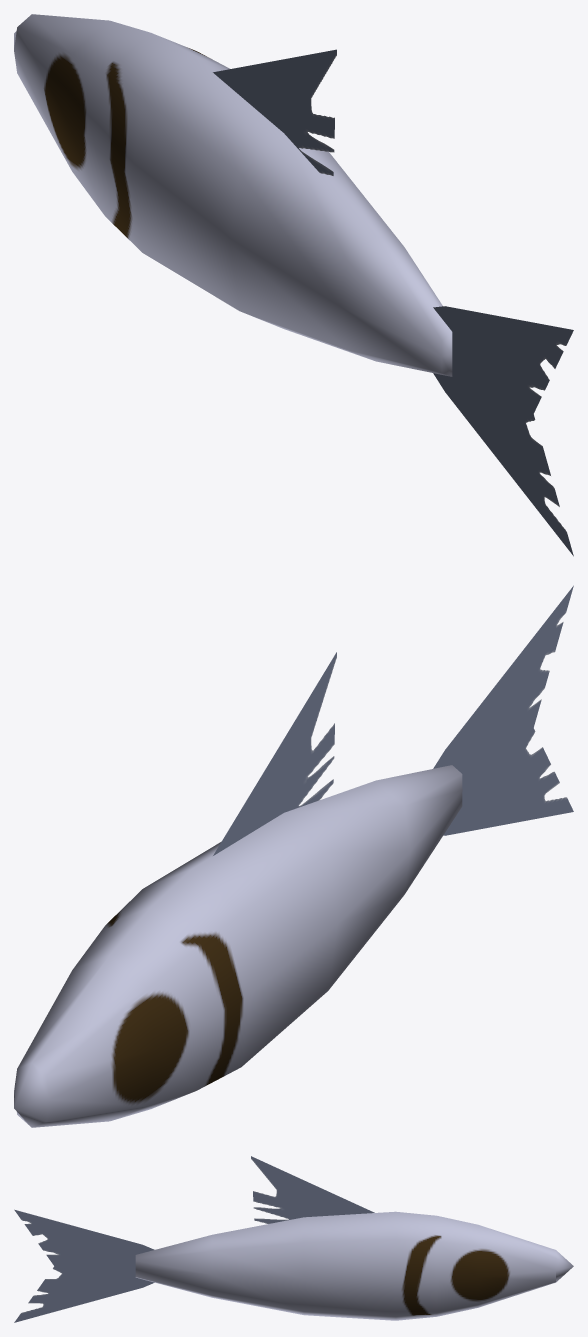
The model's file is Sardine.fbx.
3 renders of one model, top to bottom at view 1: azimuth 30°, elevation 25°; view 2: azimuth 150°, elevation 25°; view 3: azimuth 270°, elevation 25°, orthographic. The views are drawn at different scales.
Parts seen in each view (by area): view 1: sardientje; view 2: sardientje; view 3: sardientje.
Part boxes in pixels (box(x1,y1,x2,y2)): sardientje: box(14, 14, 573, 556); sardientje: box(14, 585, 573, 1127); sardientje: box(14, 1156, 573, 1322).
Size of the model in its own units: 31.88 by 85.02 by 258.
